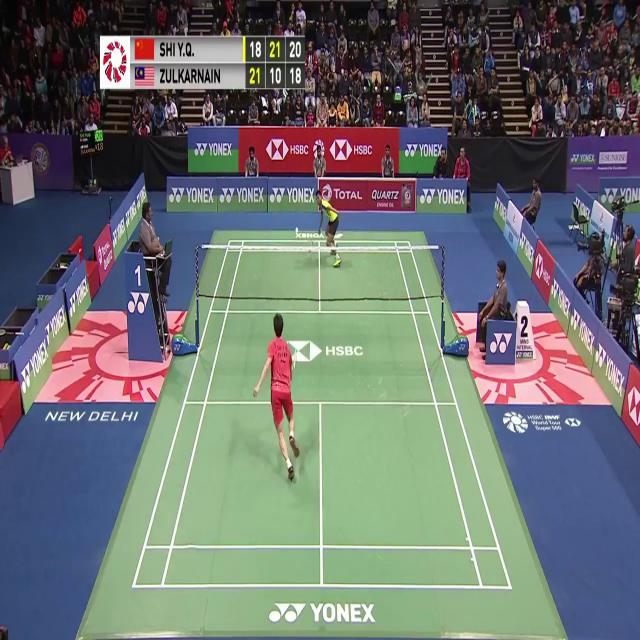Shuttlecock: (293, 225, 300, 237)
